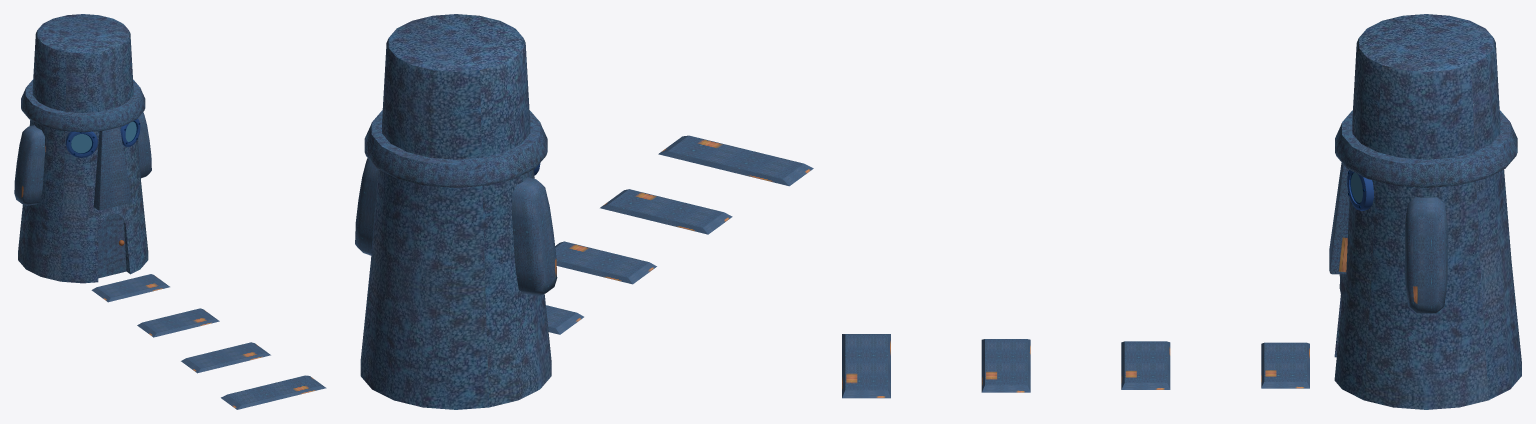
3 views of the same model, side by side, from view 1: azimuth 30°, elevation 25°; view 2: azimuth 150°, elevation 25°; view 3: azimuth 270°, elevation 25° (orthographic). The views are drawn at different scales.
Visible parts, largest first — view 1: Squidward's_House_Malha.002, Stones_Malha.003; view 2: Squidward's_House_Malha.002, Stones_Malha.003; view 3: Squidward's_House_Malha.002, Stones_Malha.003.
Part boxes in pixels (x1,y1,x2,y2): Squidward's_House_Malha.002: (14,14,151,283); Stones_Malha.003: (91,274,326,409); Squidward's_House_Malha.002: (355,14,557,409); Stones_Malha.003: (546,135,813,334); Squidward's_House_Malha.002: (1329,14,1521,409); Stones_Malha.003: (842,334,1309,398).
Size of what is drawn, in the model's own units: 5.58 by 9.15 by 17.21.
7 materials, 3 textured.
